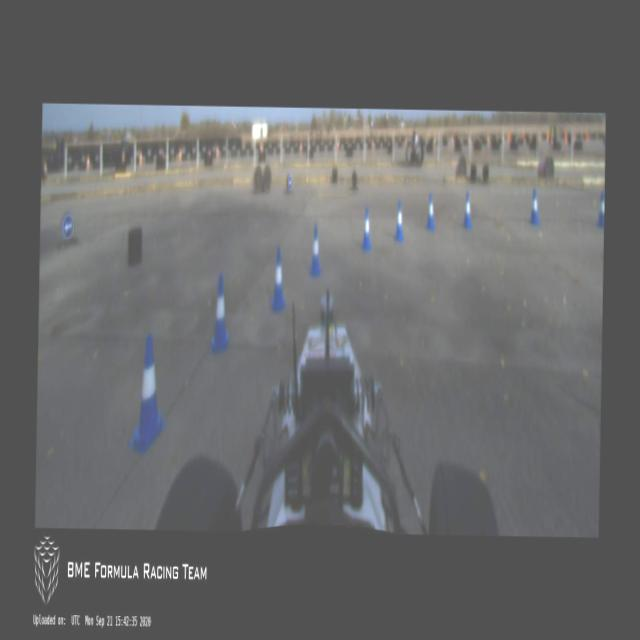blue_cone: (127, 334, 167, 450), (210, 273, 230, 351), (270, 248, 286, 308), (309, 224, 320, 274), (361, 207, 372, 250), (528, 188, 540, 224), (394, 200, 404, 239), (424, 192, 434, 228), (463, 190, 472, 227), (596, 190, 604, 227)
